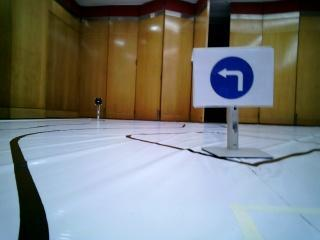left: (195, 50, 274, 107)
